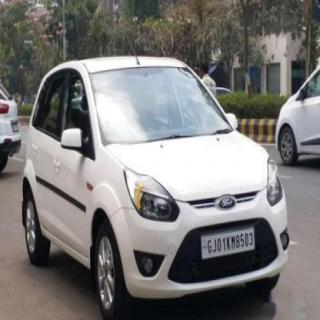Normal_vehicle: (21, 55, 289, 319)
